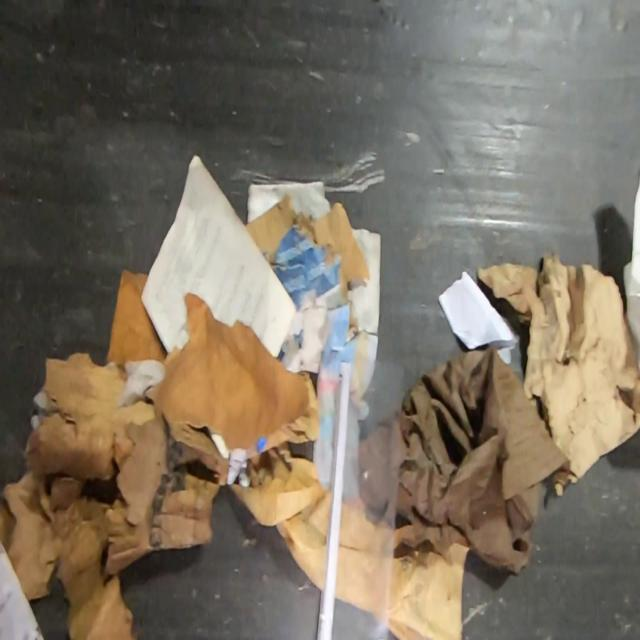cardboard: (0, 349, 230, 639), (475, 248, 640, 499), (243, 192, 371, 311), (106, 264, 168, 365)
soft_plastic: (314, 359, 405, 640)
